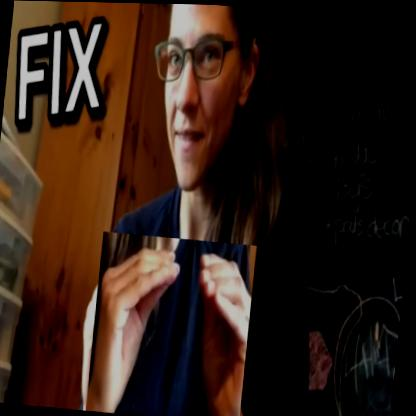Fix: (87, 231, 259, 416)
